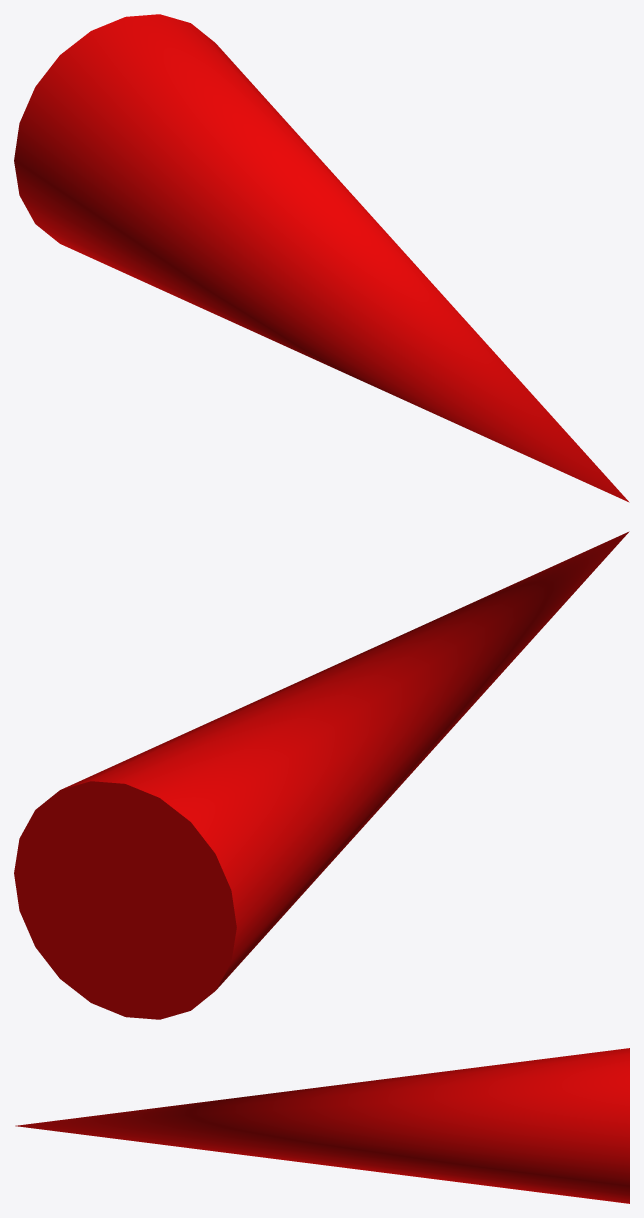
File: Compass.fbx
The picture shows the model from 3 angles, top to bottom: view 1: azimuth 30°, elevation 25°; view 2: azimuth 150°, elevation 25°; view 3: azimuth 270°, elevation 25°; orthographic projection. The views are drawn at different scales.
Visible parts, largest first — view 1: pCone1; view 2: pCone1; view 3: pCone1.
Part boxes in pixels (x1,y1,x2,y2): pCone1: [14, 14, 629, 502]; pCone1: [14, 531, 629, 1019]; pCone1: [15, 1048, 629, 1203].
Bounding box in the file's own units: 1.46 × 1.46 × 5.73.
